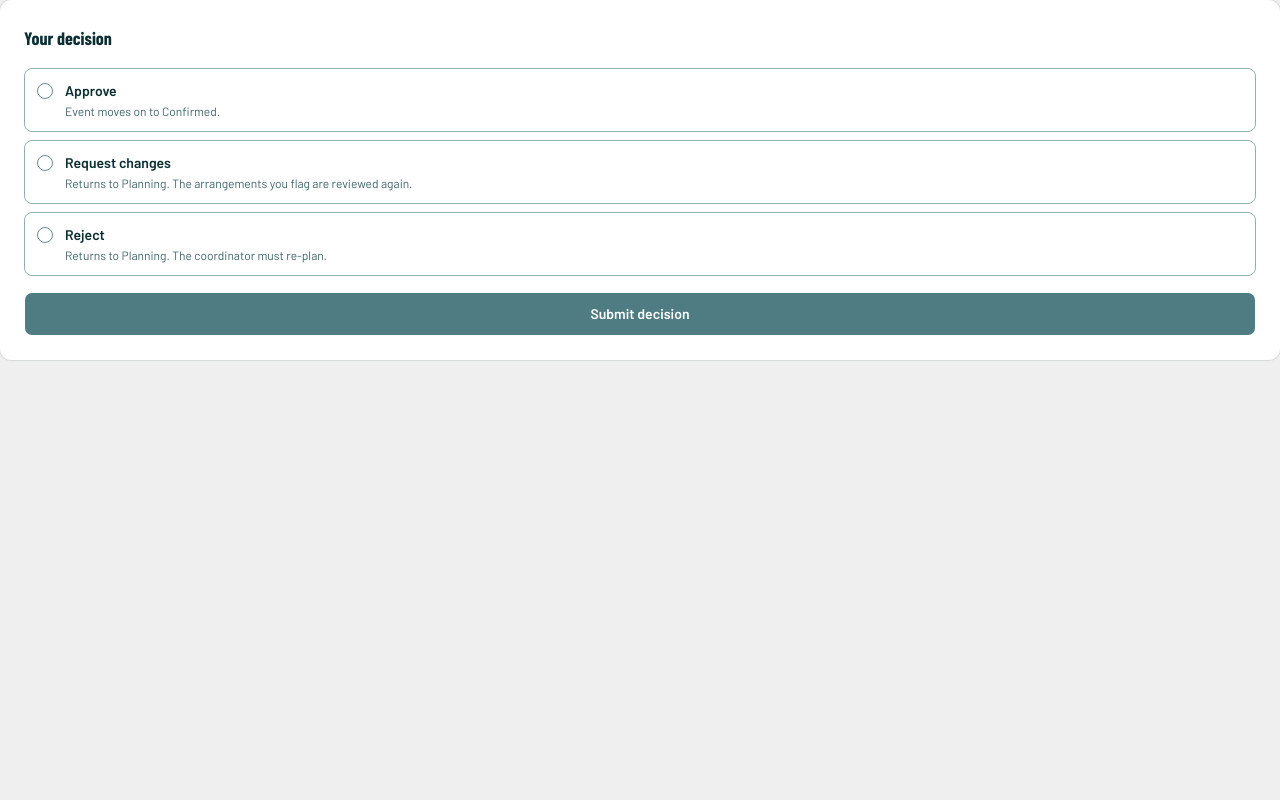
Test case: SCRUM-142/AC3 confirm a decision › SCRUM-142/AC3 sends the notes on flagged factors as the reason for Request changes
The width and height of the screenshot is (1280, 800).
Click the radio button next to "Request changes". click: x=45, y=163
box: [37,155,53,171]
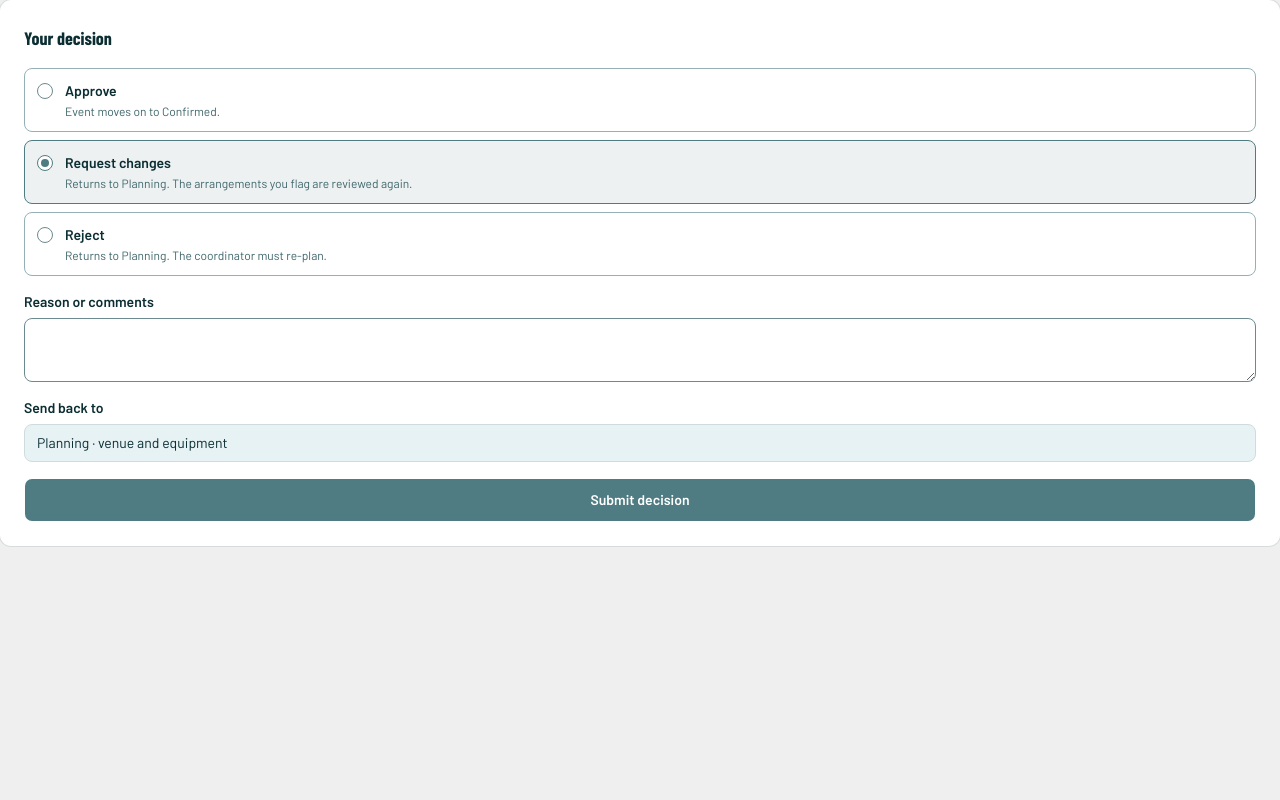
Expected: the text "Planning · venue and equipment" is shown, [24,424,1256,462]
Click the button "Submit decision". click: x=640, y=500
box: [24,478,1256,522]
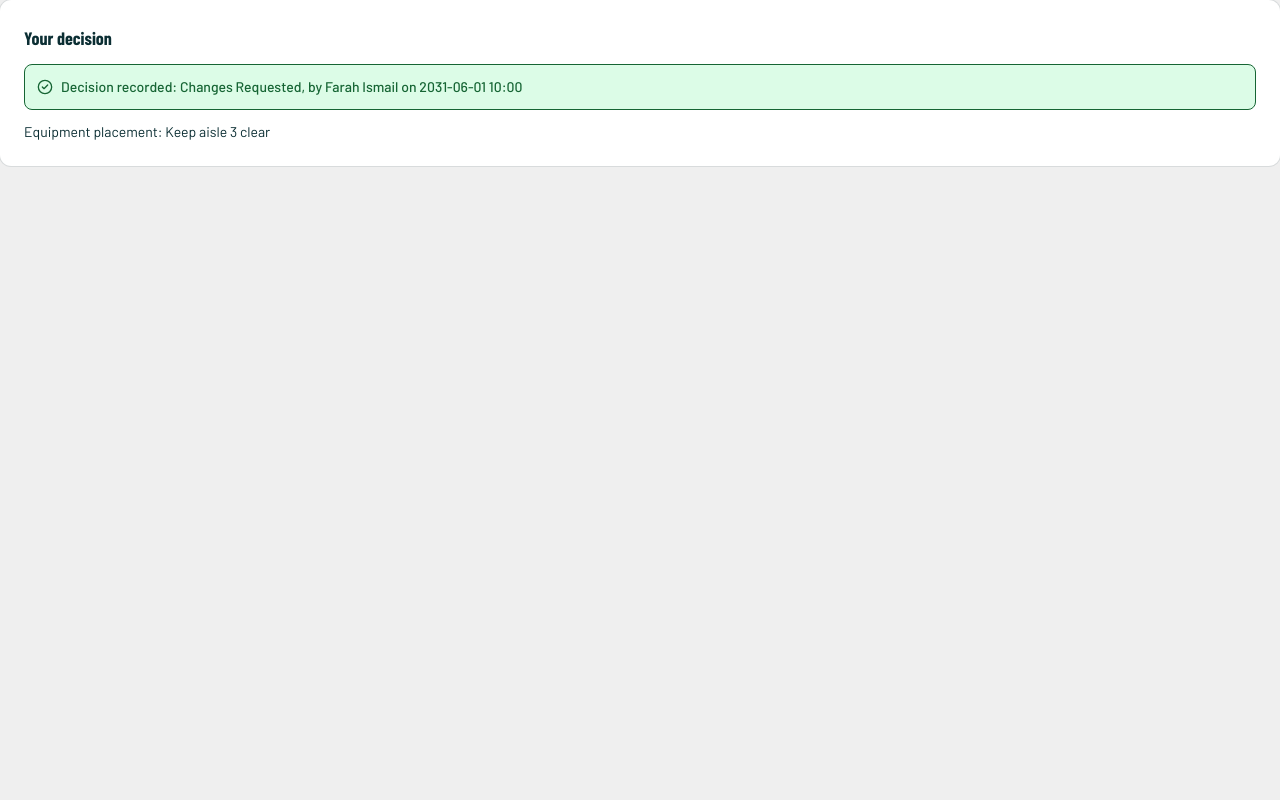
Expected: the message "Decision recorded: Changes Requested, by Farah Ismail on 2031-06-01 10:00" is shown, [24,64,1256,110]
